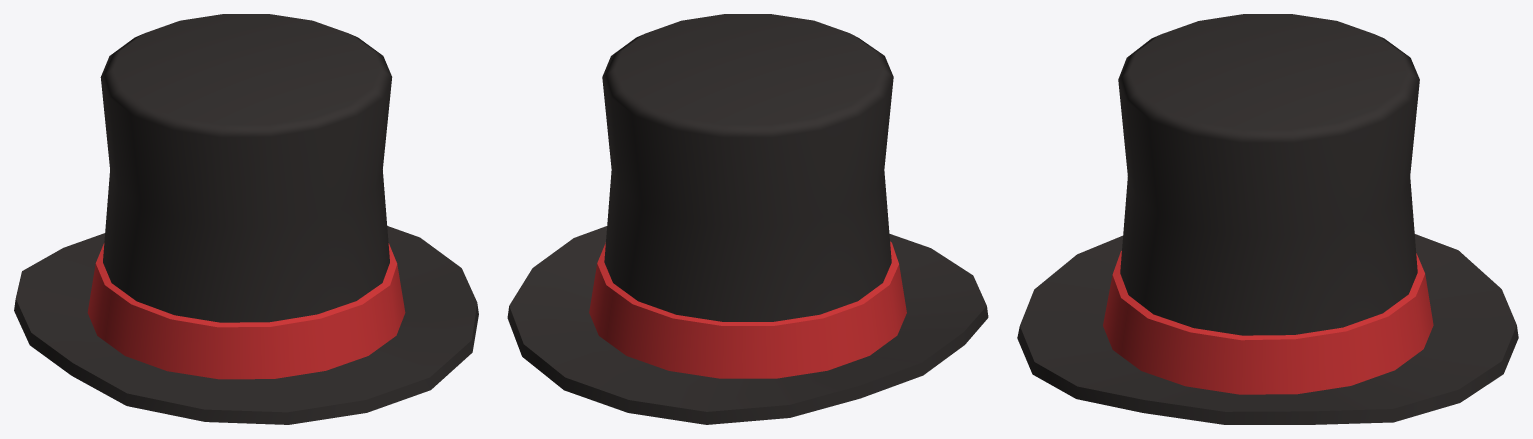
File: Hat_02_01.fbx
3 renders of one model, left to right at view 1: azimuth 30°, elevation 25°; view 2: azimuth 150°, elevation 25°; view 3: azimuth 270°, elevation 25°, orthographic. The views are drawn at different scales.
Parts seen in each view (by area): view 1: Hat_02_01; view 2: Hat_02_01; view 3: Hat_02_01.
Boxes of the visible parts, x1,y1,x2,y2 form: Hat_02_01: [14, 14, 478, 424]; Hat_02_01: [507, 14, 988, 424]; Hat_02_01: [1017, 14, 1518, 424].
Bounding box in the file's own units: 51.45 × 32.28 × 54.67.
